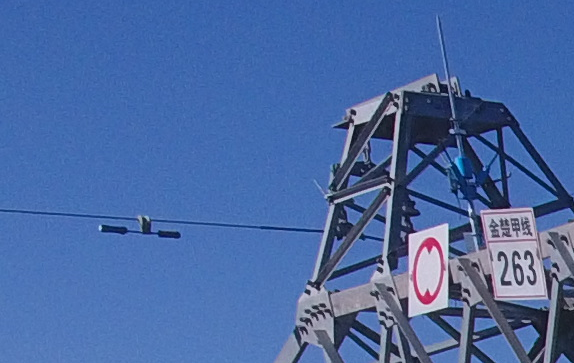damper: (96, 214, 183, 240)
